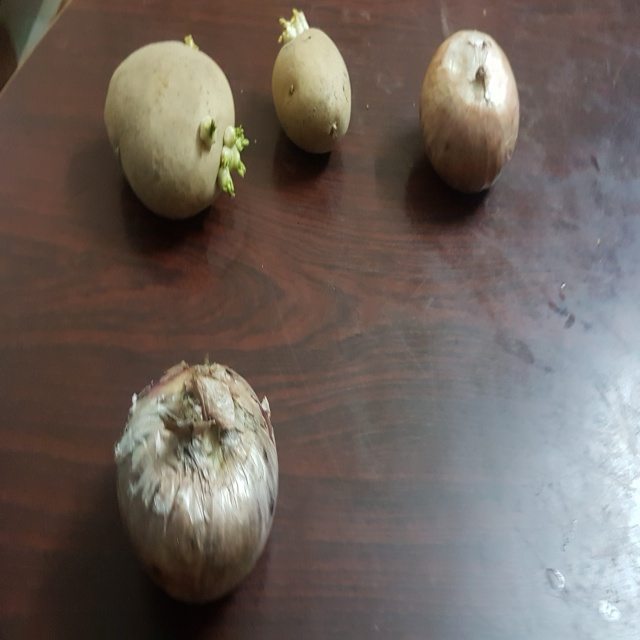onion: (110, 356, 299, 609), (413, 25, 525, 207)
potato: (101, 31, 258, 222), (263, 8, 360, 155)
